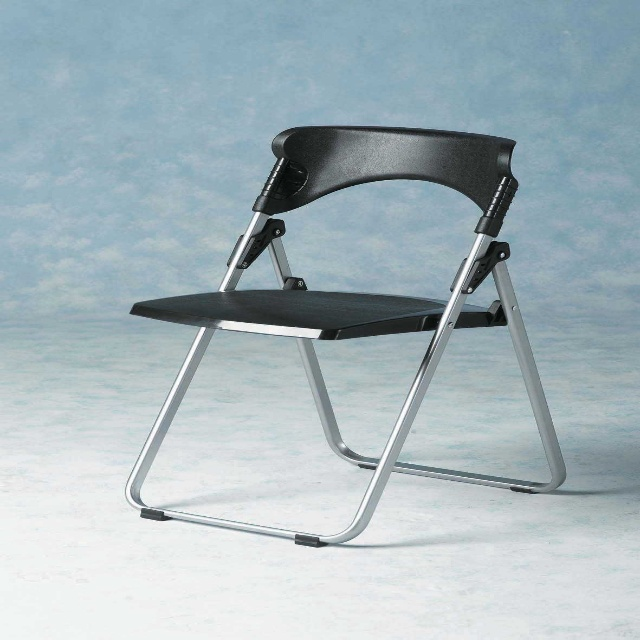obstacle: (126, 126, 565, 547)
